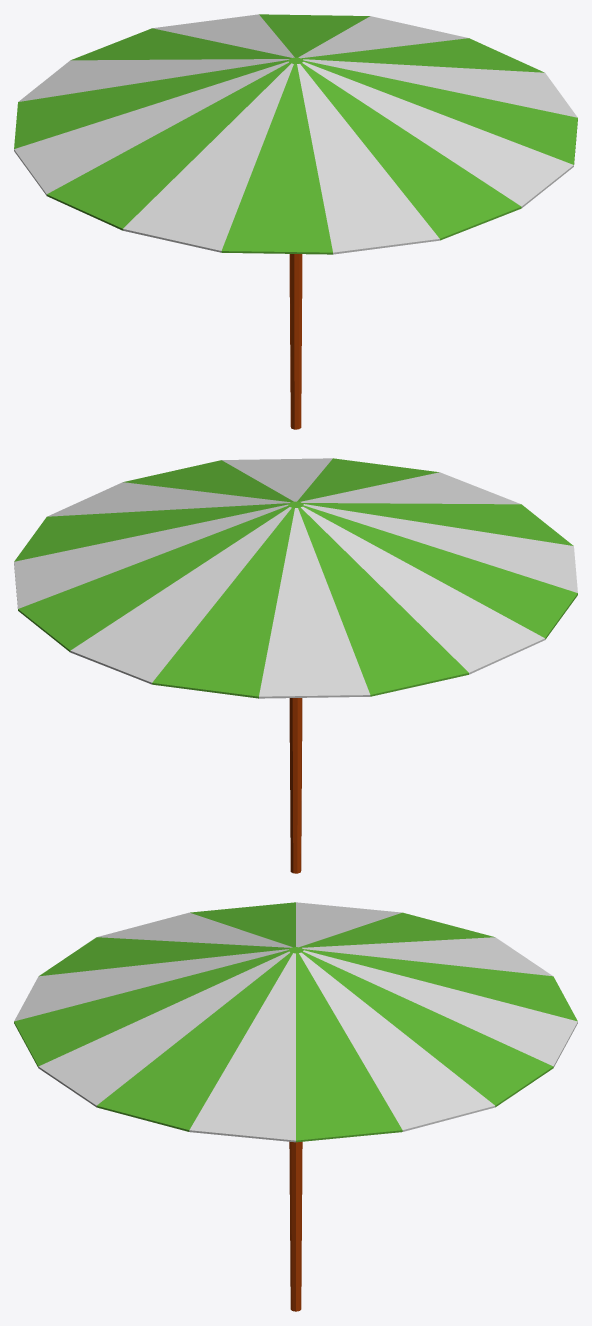
File: umbrella.fbx
3 renders of one model, top to bottom at view 1: azimuth 30°, elevation 25°; view 2: azimuth 150°, elevation 25°; view 3: azimuth 270°, elevation 25°, orthographic. The views are drawn at different scales.
Parts seen in each view (by area): view 1: umbrella; view 2: umbrella; view 3: umbrella.
Boxes of the visible parts, x1,y1,x2,y2 form: umbrella: (14,14,577,429); umbrella: (14,458,577,873); umbrella: (14,902,577,1311).
Bounding box in the file's own units: 2.95 × 2.08 × 2.95.
